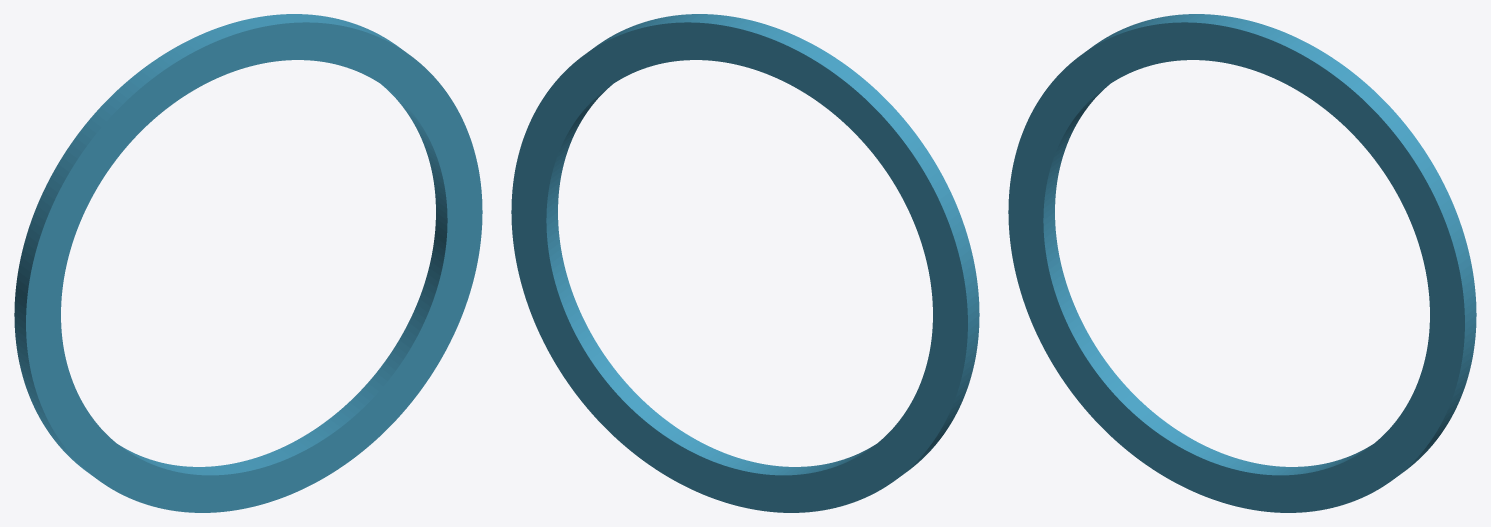
Rendered from Actuator_Compliance_Ring.obj.
3 views of the same model, side by side, from view 1: azimuth 30°, elevation 25°; view 2: azimuth 150°, elevation 25°; view 3: azimuth 330°, elevation 25° (orthographic).
Parts seen in each view (by area): view 1: Actuator_Compliance_Ring; view 2: Actuator_Compliance_Ring; view 3: Actuator_Compliance_Ring.
Boxes of the visible parts, x1=… form: Actuator_Compliance_Ring: x1=14, y1=14, x2=482, y2=512; Actuator_Compliance_Ring: x1=511, y1=14, x2=979, y2=512; Actuator_Compliance_Ring: x1=1008, y1=14, x2=1476, y2=512.
Size of the model in its own units: 27.4 by 27.4 by 1.2.
